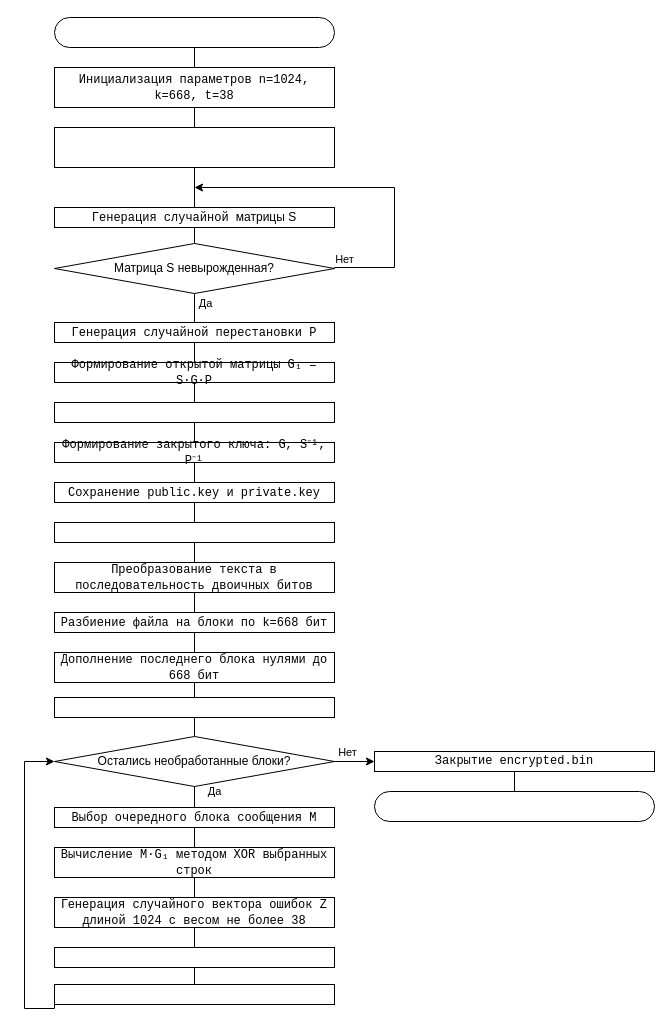
The diagram is 672 pixels wide and 1034 high, and some of its shapes have lost their labels. Here are the shapes that lost their labels. From the top down, the centre of each, then its label:
At point (194, 32): "Начало".
At point (194, 147): "Построение порождающей матрицы корректирующего BCH-кода G".
At point (194, 412): "Формирование открытого ключа (G₁,t)".
At point (194, 532): "Чтение public.key и исходного файла".
At point (194, 707): "Создание encrypted.bin и з апись заголовка".
At point (514, 806): "Конец".
At point (194, 957): "Формирование C = M·G₁ ⊕ Z".
At point (194, 994): "Запись блока C в encrypted.bin".
